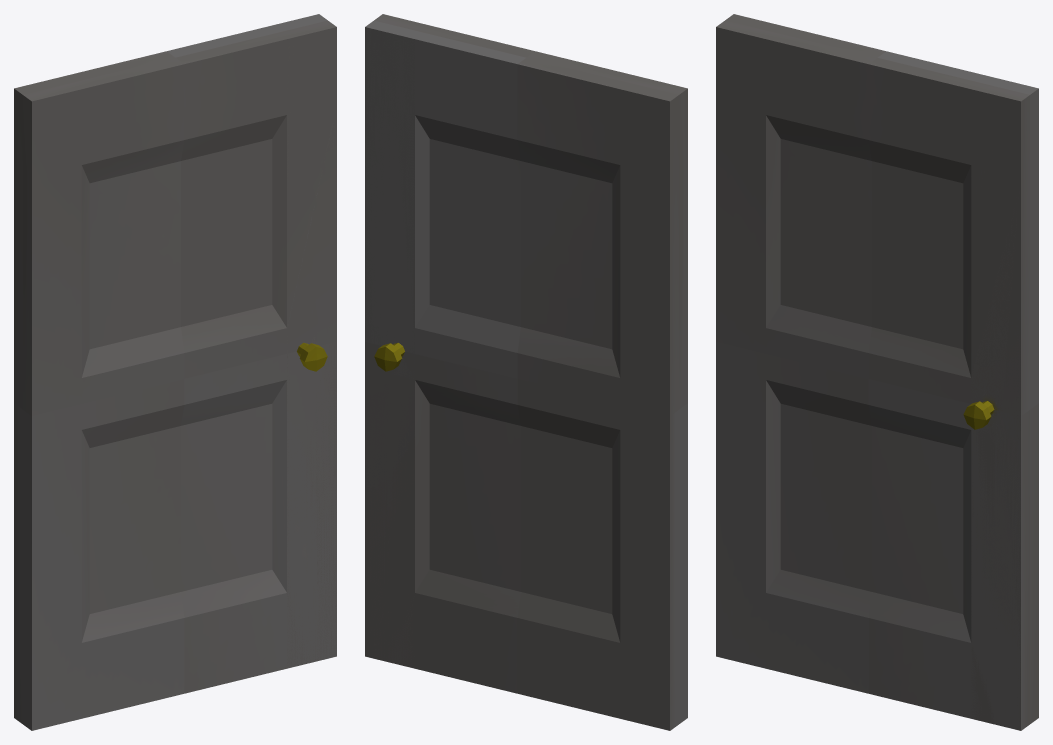
The model's file is puertainterior.fbx.
3 views of the same model, side by side, from view 1: azimuth 30°, elevation 25°; view 2: azimuth 150°, elevation 25°; view 3: azimuth 330°, elevation 25° (orthographic).
Parts seen in each view (by area): view 1: puerta1; view 2: puerta1; view 3: puerta1.
Part boxes in pixels (bbox=[...]): puerta1: bbox=[14, 14, 336, 730]; puerta1: bbox=[365, 14, 687, 730]; puerta1: bbox=[716, 14, 1038, 730].
Size of the model in its own units: 403 by 794 by 104.
1 material, 1 textured.
